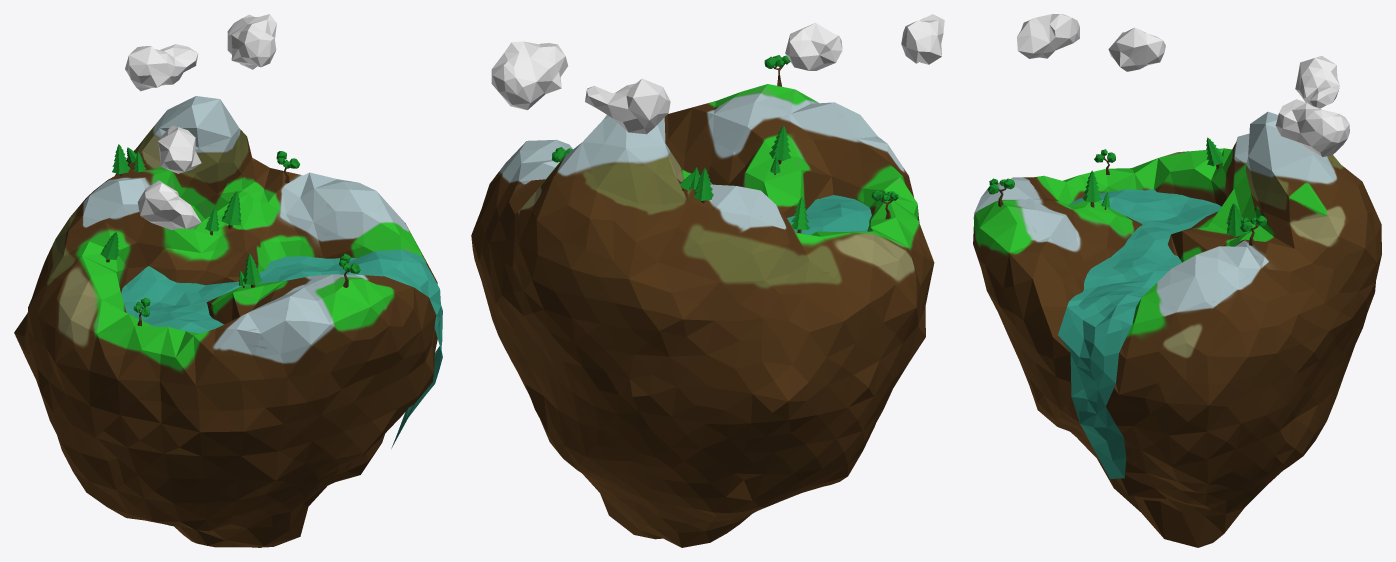
The model's file is NasdaceCity.glb.
The picture shows the model from 3 angles, left to right: view 1: azimuth 30°, elevation 25°; view 2: azimuth 150°, elevation 25°; view 3: azimuth 270°, elevation 25°; orthographic projection. The views are drawn at different scales.
Parts seen in each view (by area): view 1: ground.001, water.001, sky.001; view 2: ground.001, sky.001, water.001; view 3: ground.001, water.001, sky.001.
Boxes of the visible parts, box(x1,y1,x2,y2) form: ground.001: box(14, 96, 437, 547); water.001: box(121, 249, 442, 448); sky.001: box(125, 14, 276, 229); ground.001: box(471, 84, 934, 547); sky.001: box(491, 14, 944, 134); water.001: box(688, 172, 871, 234); ground.001: box(973, 111, 1381, 547); water.001: box(1058, 189, 1221, 478); sky.001: box(1017, 14, 1349, 156).
Size of the model in its own units: 19.04 by 22.63 by 18.18.
Materials: 5 (1 with a texture image).
